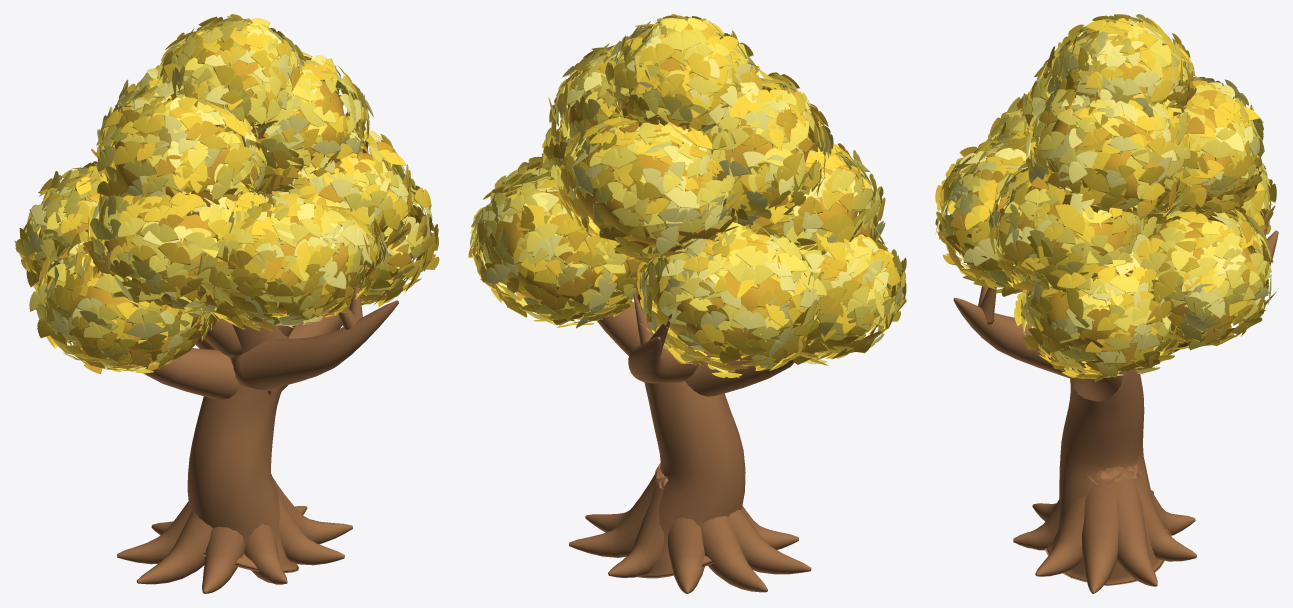
The model's file is golden_ginkgo_tree.glb.
3 renders of one model, left to right at view 1: azimuth 30°, elevation 25°; view 2: azimuth 150°, elevation 25°; view 3: azimuth 270°, elevation 25°, orthographic. The views are drawn at different scales.
Visible parts, largest first — view 1: Autumn_Autumn_Tree; view 2: Autumn_Autumn_Tree; view 3: Autumn_Autumn_Tree.
Part boxes in pixels (left/top/right/bottom): Autumn_Autumn_Tree: left=14, top=14, right=439, bottom=593; Autumn_Autumn_Tree: left=468, top=14, right=906, bottom=593; Autumn_Autumn_Tree: left=935, top=14, right=1278, bottom=593.
Bounding box in the file's own units: 5.04 × 6.67 × 3.84.
